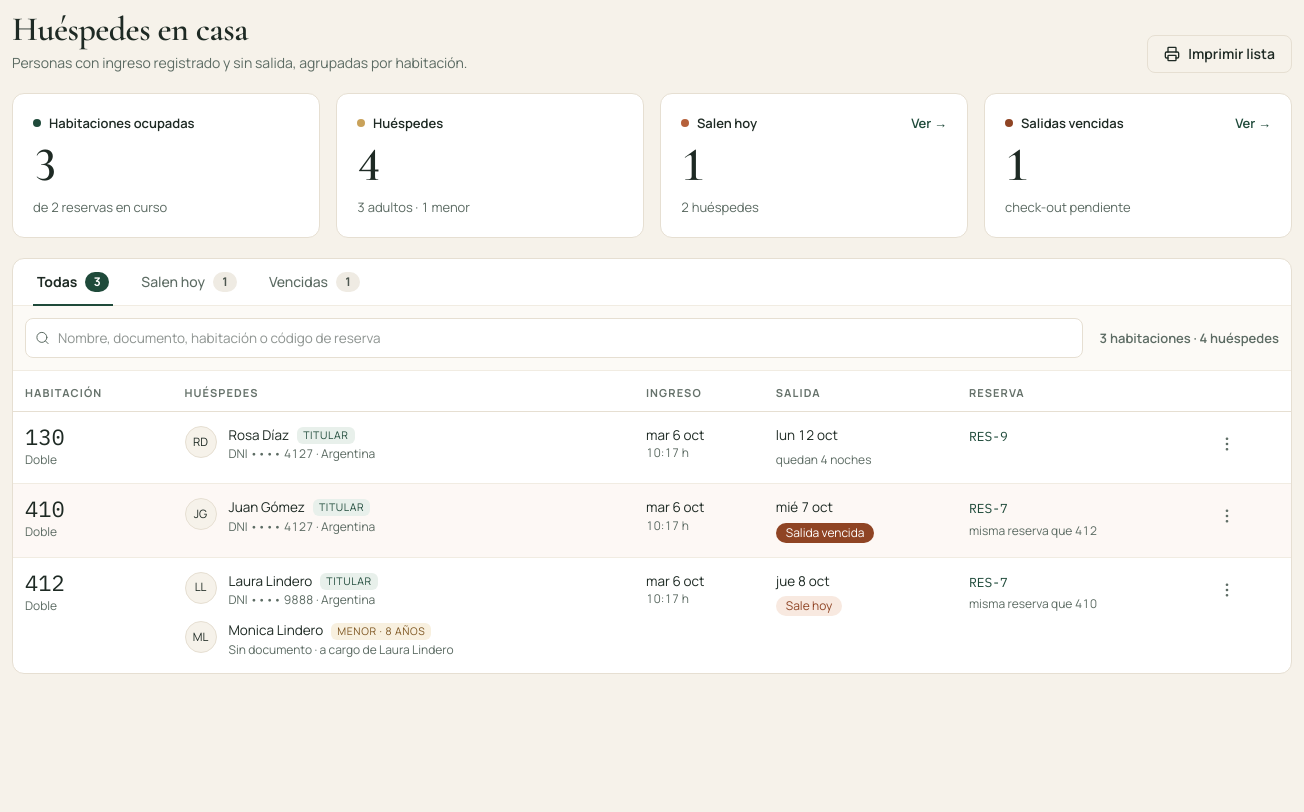
Test case: AlojadosPage › la búsqueda espera 300 ms, va a la URL y no cambia los indicadores
This screenshot has width=1304, height=812.
expect the text "Rosa Díaz" is shown: met, box [228,426,289,445]
Type "412" into the search field named "Buscar huéspedes en casa" at (554,338), box [25,318,1083,358]
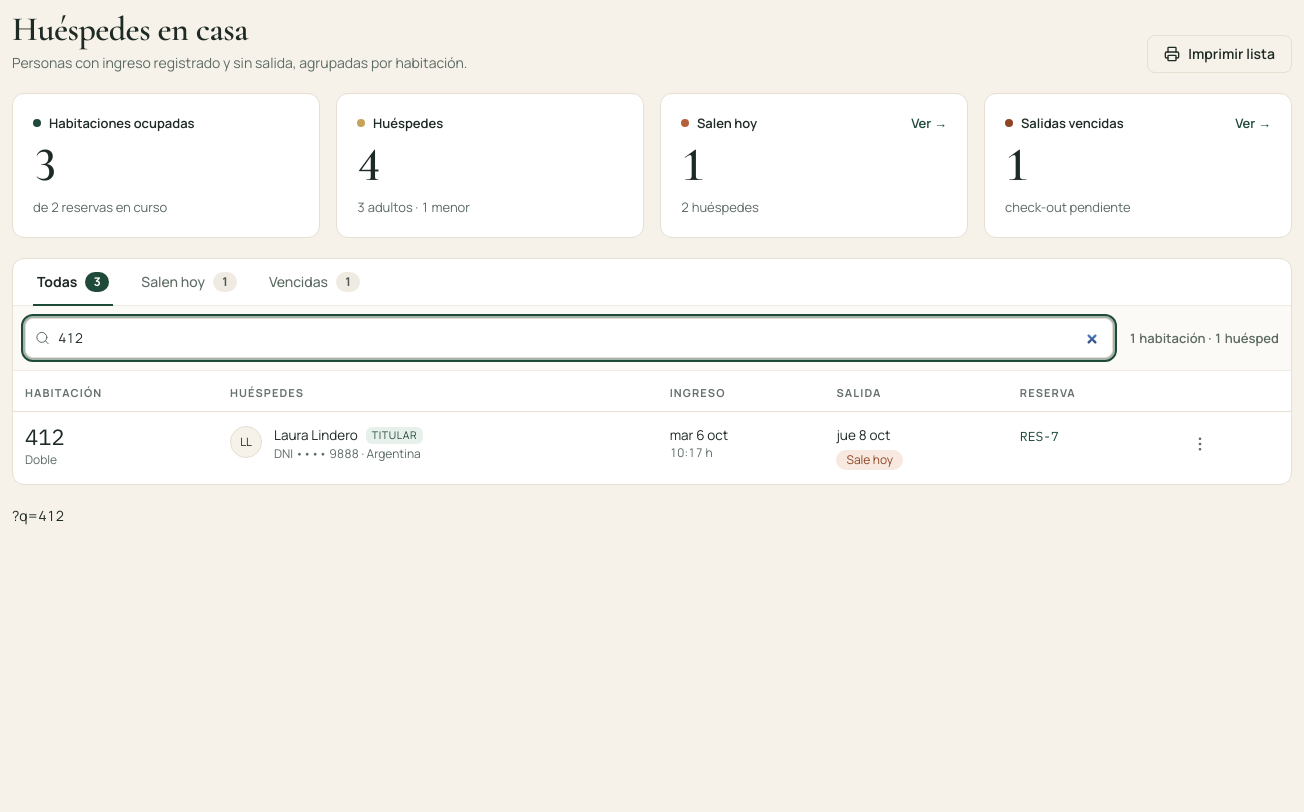
expect the element "Habitaciones ocupadas" shows "3": met, box [33,136,57,194]
expect the text with test id "ubicacion" shows "q=412": met, box [12,506,64,525]
